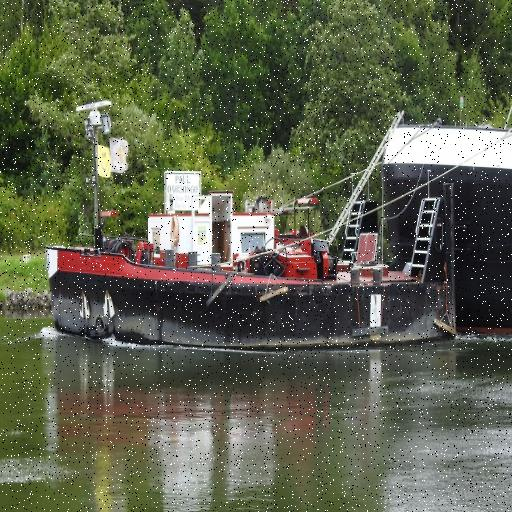tugboat: (44, 97, 463, 364)
